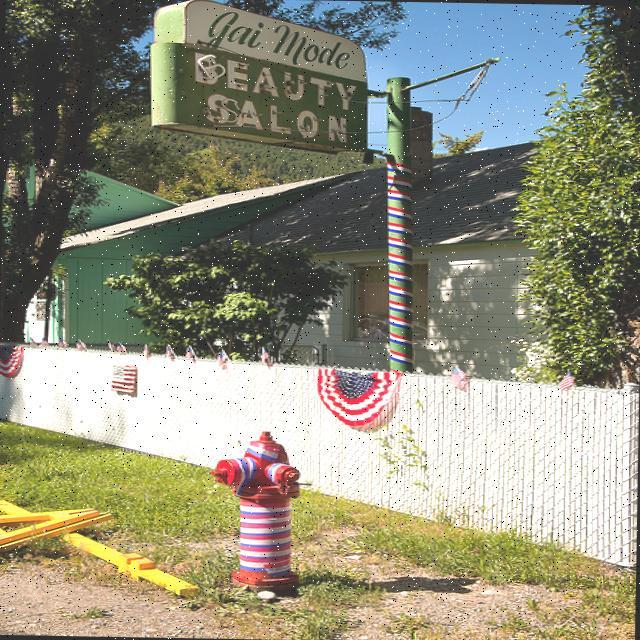fire_hydrant: (211, 432, 301, 592)
